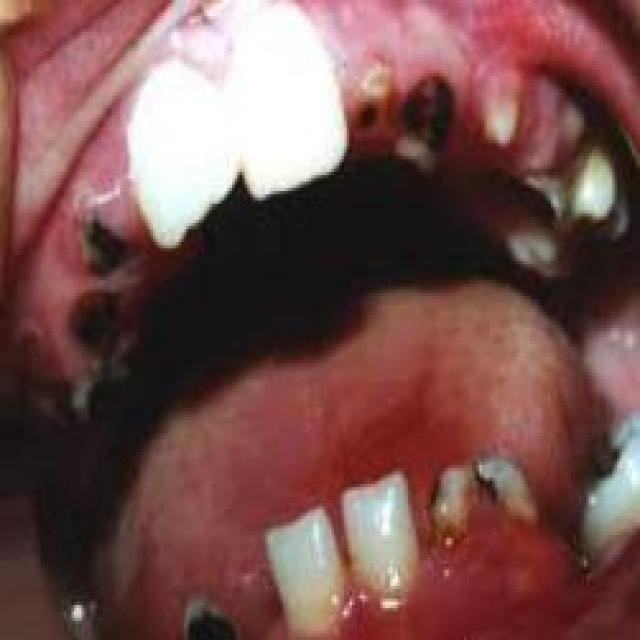caries: (391, 69, 456, 178), (576, 414, 640, 516), (165, 568, 253, 640), (74, 205, 148, 283), (482, 455, 543, 543), (61, 284, 131, 360), (578, 191, 638, 277), (501, 162, 565, 242), (344, 54, 393, 146), (428, 460, 475, 551)
